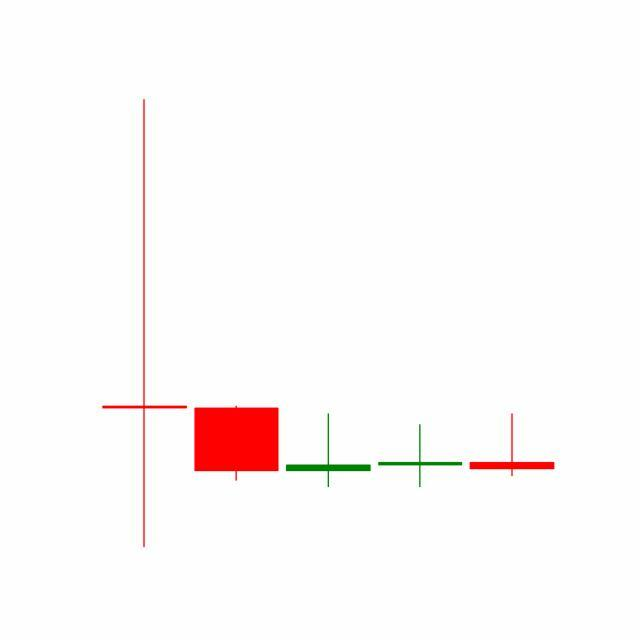Gravestone Doji: (466, 413, 559, 479)
